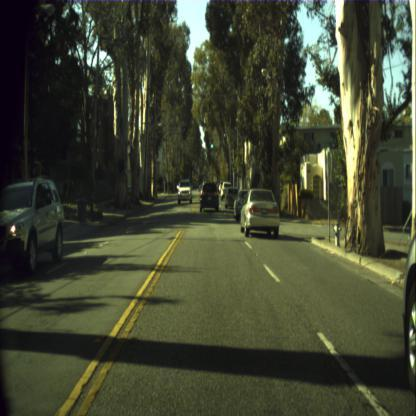Green: (210, 138, 214, 149), (232, 162, 234, 171)
